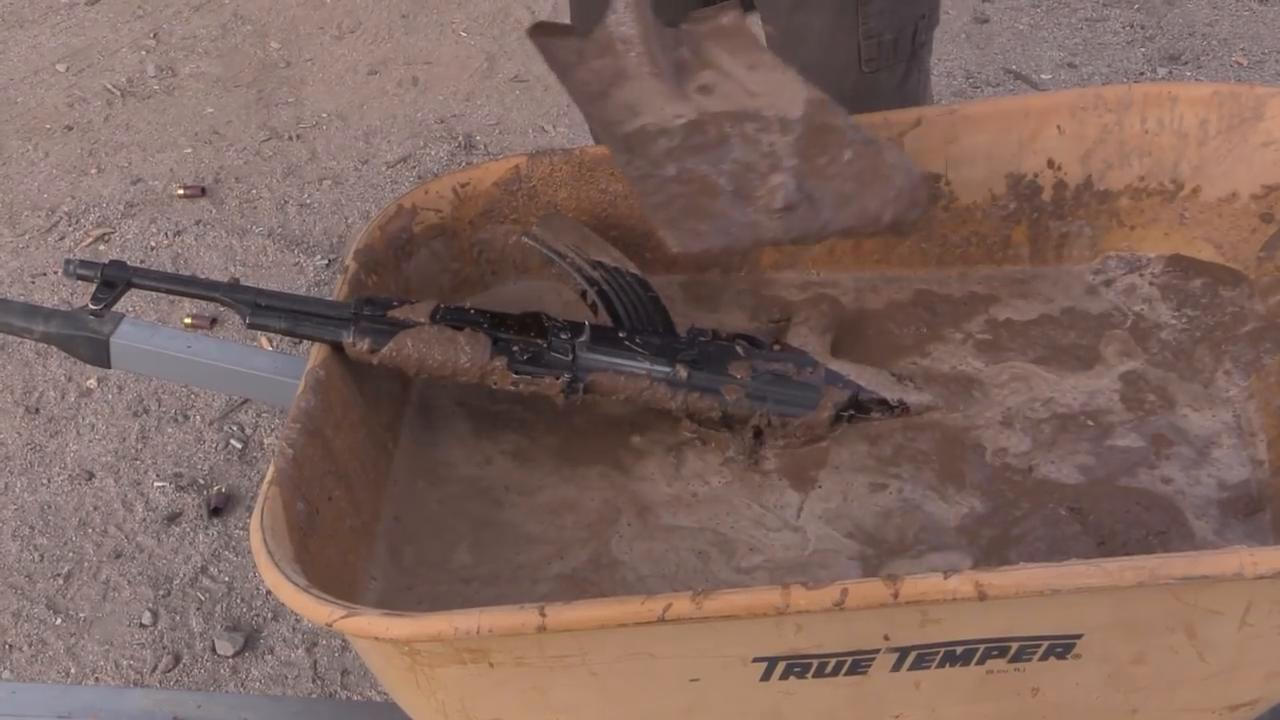AK47 Rifle: (59, 254, 915, 431)
